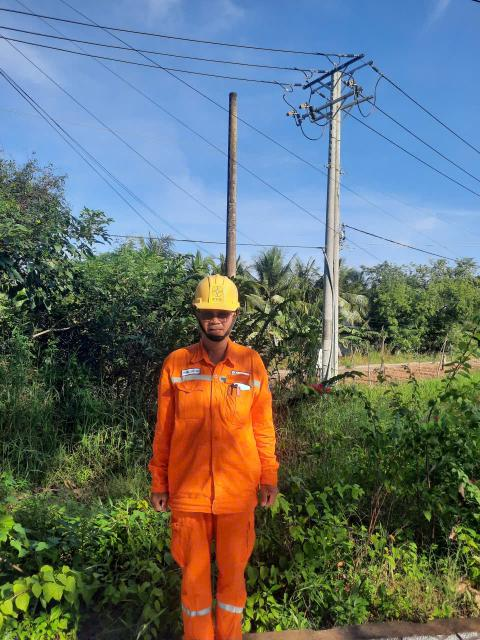helmet: (192, 269, 246, 315)
